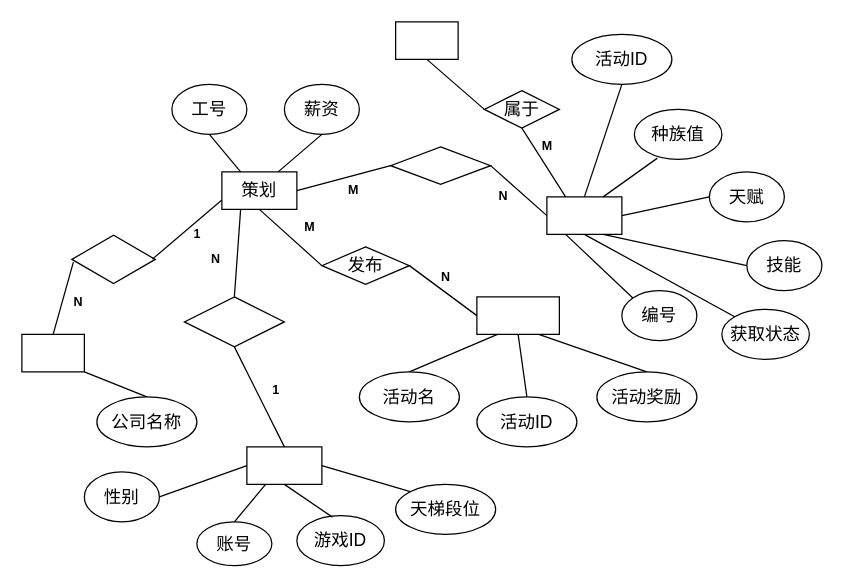
The diagram is 844 pixels wide and 588 high, and some of its shapes have lost their labels. Each missing label, with the centre of its shape:
公司: [52,352]
宠物: [584,215]
惩罚: [233,321]
更新: [440,165]
来自: [113,258]
活动: [517,315]
玩家: [284,465]
系别: [426,40]
